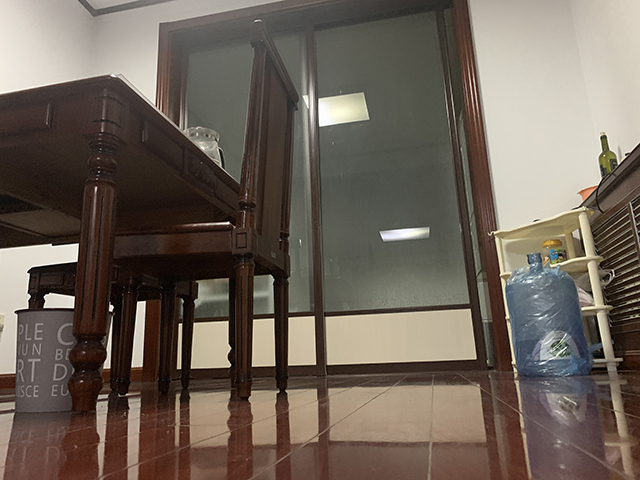stool: (105, 17, 300, 403), (26, 262, 200, 397)
table: (1, 72, 241, 412)
trashcan: (13, 307, 77, 414)
